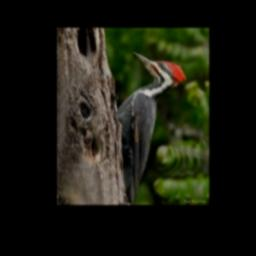Woodpecker: (116, 52, 186, 205)
